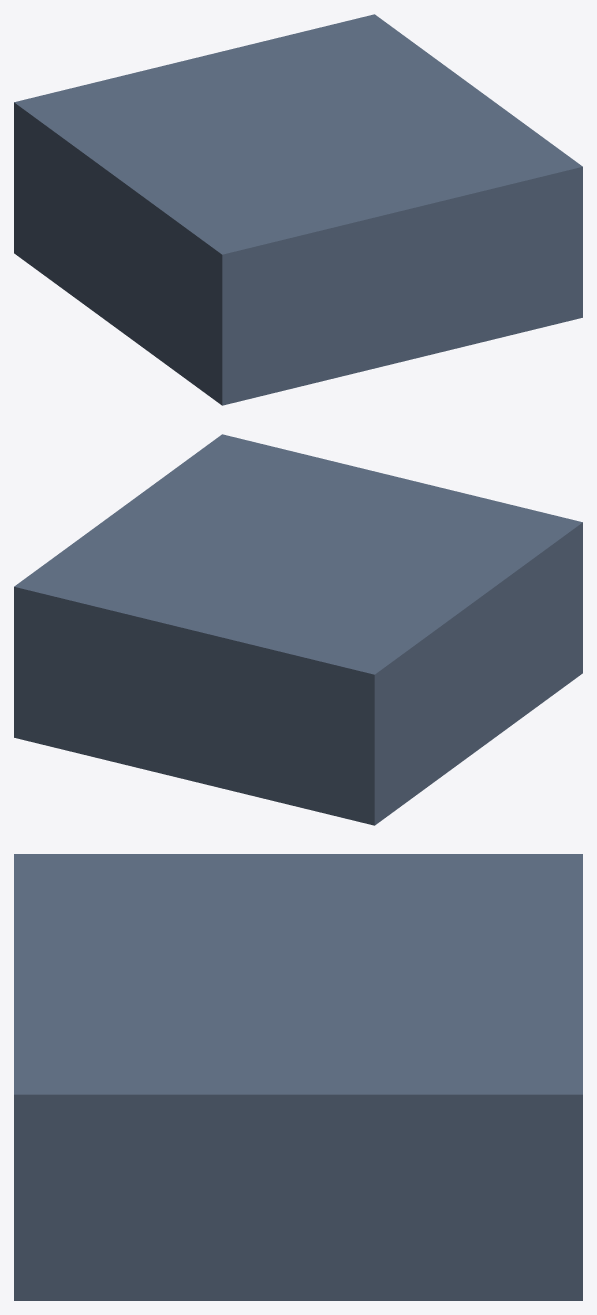
Rendered from bloque_canal_agua.glb.
3 renders of one model, top to bottom at view 1: azimuth 30°, elevation 25°; view 2: azimuth 150°, elevation 25°; view 3: azimuth 270°, elevation 25°, orthographic. The views are drawn at different scales.
Visible parts, largest first — view 1: Cube; view 2: Cube; view 3: Cube.
Boxes of the visible parts, box(x1,y1,x2,y2) form: Cube: box(14, 14, 582, 405); Cube: box(14, 434, 582, 825); Cube: box(14, 854, 582, 1300).
Size of the model in its own units: 1 by 0.4 by 1.
